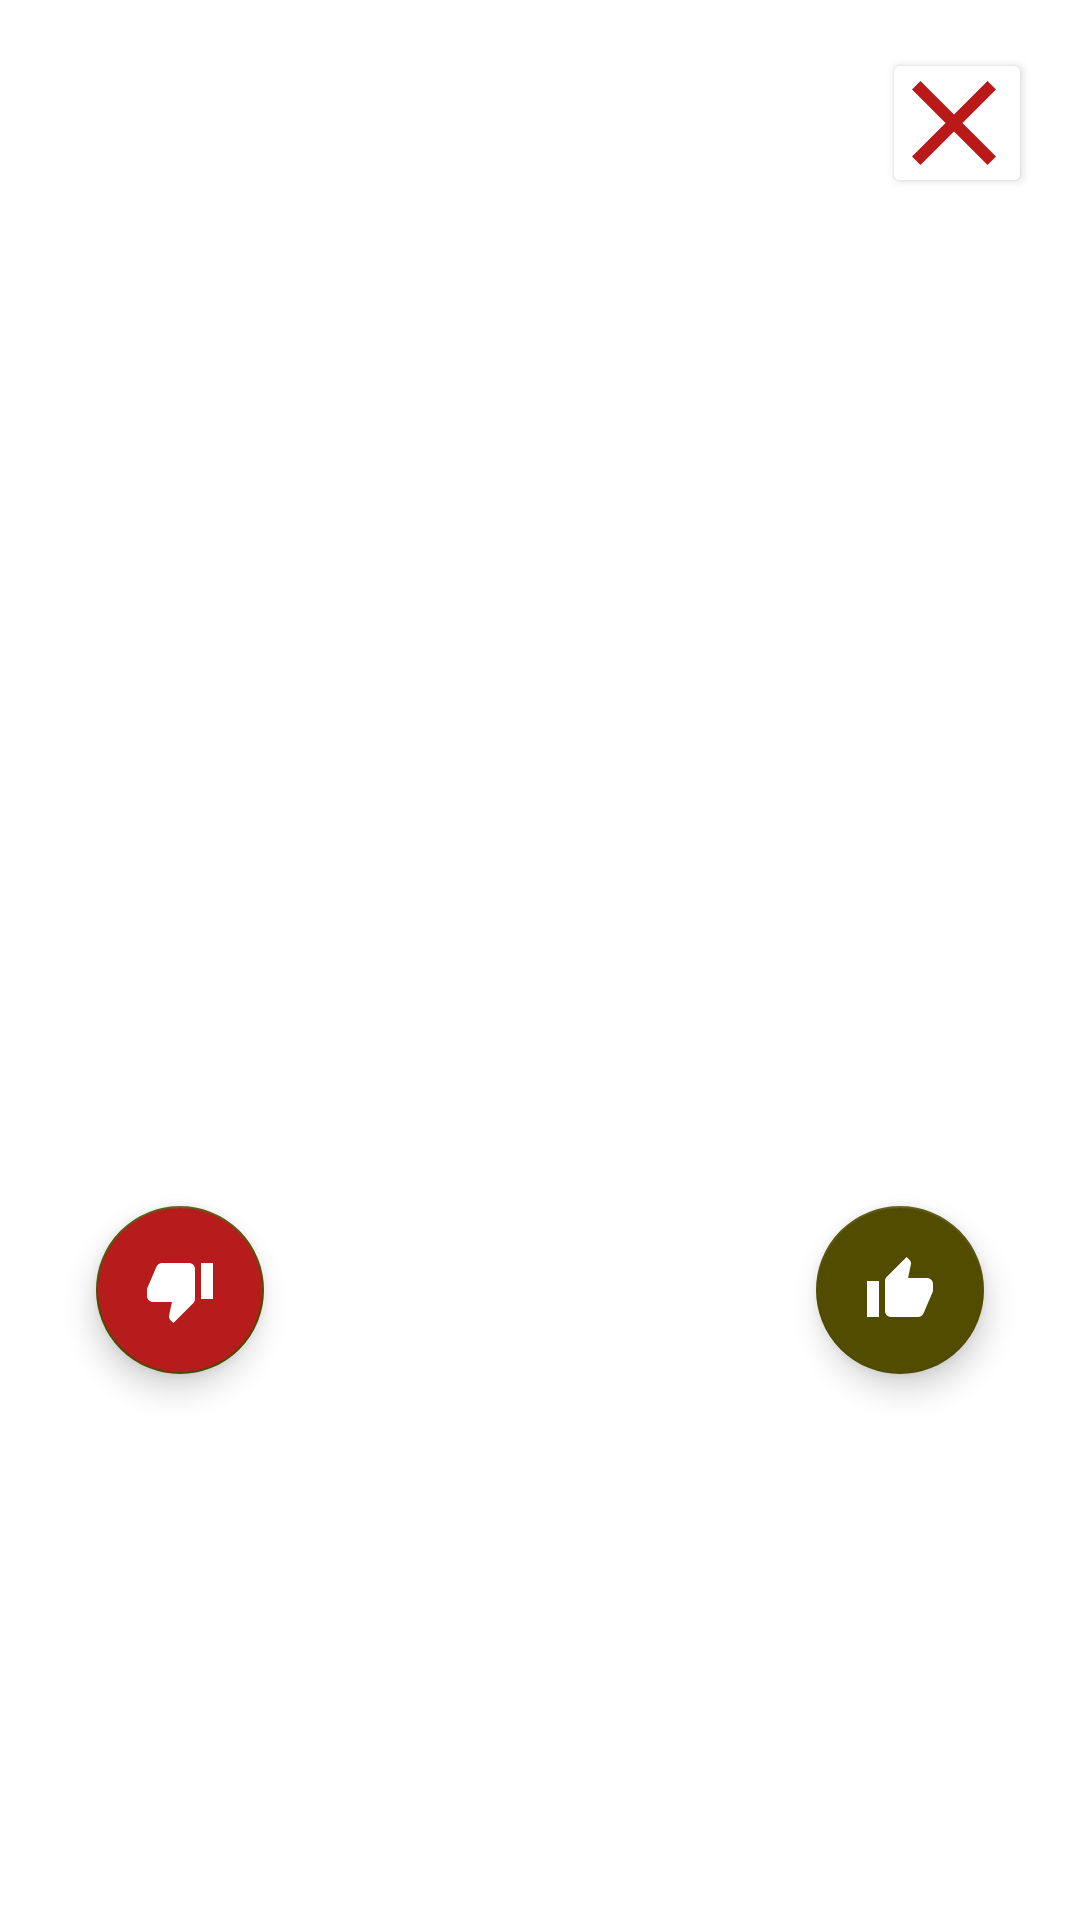

Where icons sit on this 1080px x 1920px app screen, as (x1, y1, x2, y2):
thumb down: (96, 1206, 264, 1374)
thumb up: (816, 1206, 984, 1374)
